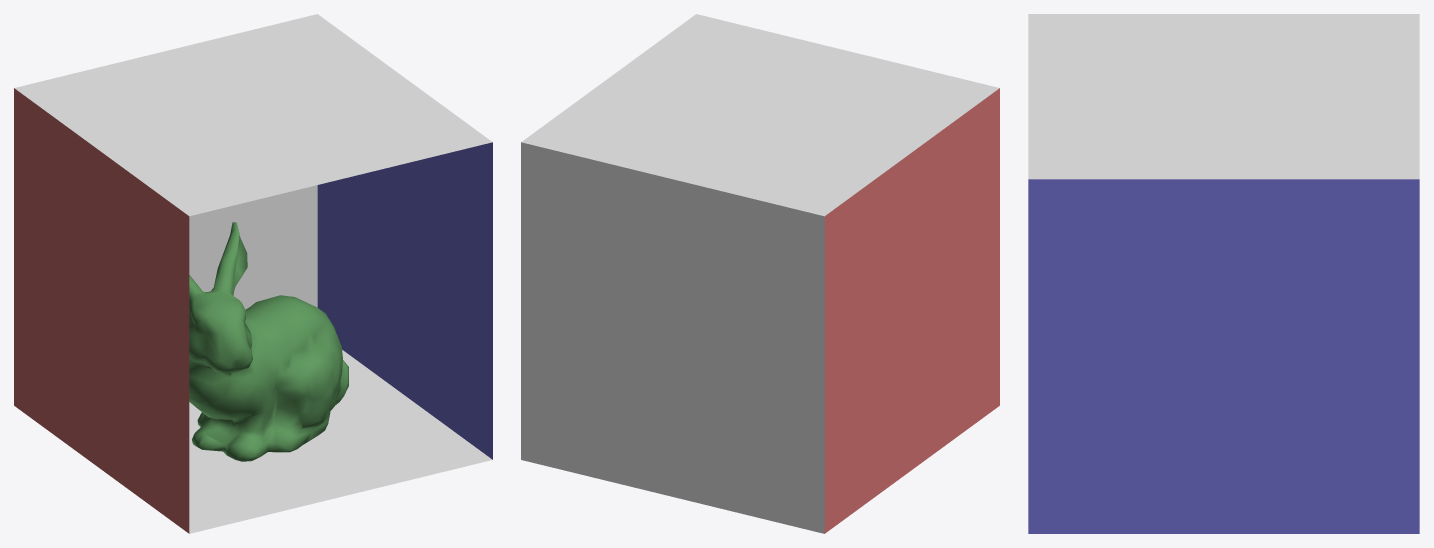
Rendered from bunny_1k.gltf.
3 views of the same model, side by side, from view 1: azimuth 30°, elevation 25°; view 2: azimuth 150°, elevation 25°; view 3: azimuth 270°, elevation 25° (orthographic). The views are drawn at different scales.
Parts seen in each view (by area): view 1: Plane.004, Plane.001, Plane.003, bunny, Plane, Plane.002; view 2: Plane.002, Plane.004, Plane.001; view 3: Plane.003, Plane.001.
Part boxes in pixels (x1,y1,x2,y2): Plane.004: [14, 88, 189, 533]; Plane.001: [14, 14, 492, 216]; Plane.003: [317, 142, 492, 459]; bunny: [189, 222, 348, 461]; Plane: [189, 350, 492, 533]; Plane.002: [189, 185, 317, 309]; Plane.002: [521, 142, 824, 533]; Plane.004: [824, 88, 999, 533]; Plane.001: [521, 14, 999, 216]; Plane.003: [1028, 179, 1419, 533]; Plane.001: [1028, 14, 1419, 179].
Size of the model in its own units: 4 by 4 by 4.
